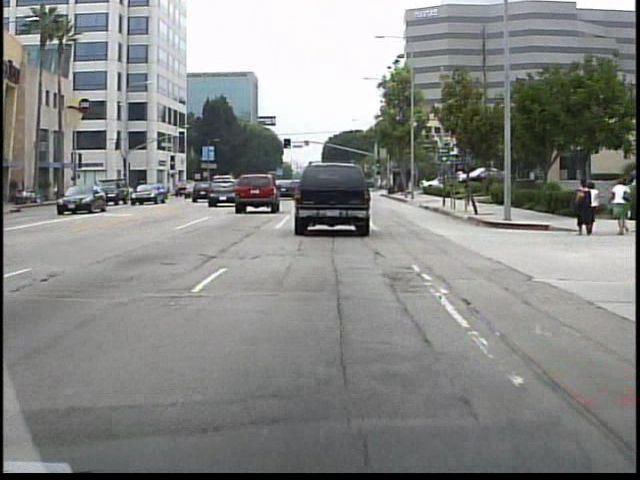person: (607, 173, 628, 235), (574, 177, 592, 238), (586, 180, 600, 233)
